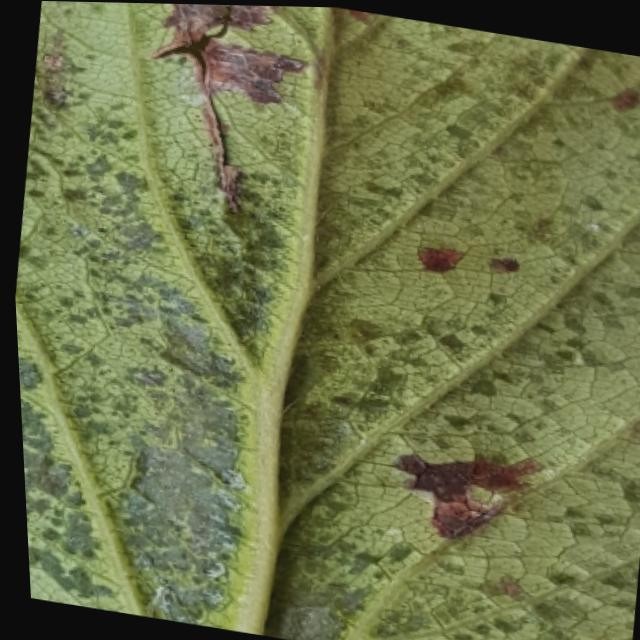Angular Leafspot: (12, 1, 640, 640)
